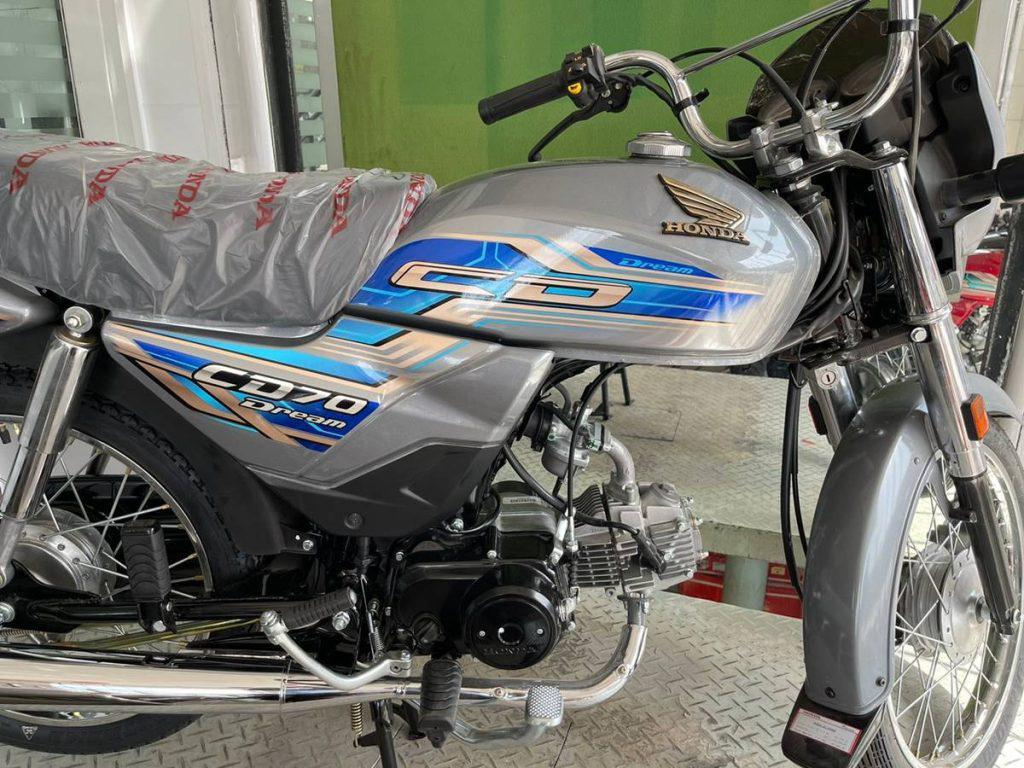bike: (1, 1, 1024, 768)
